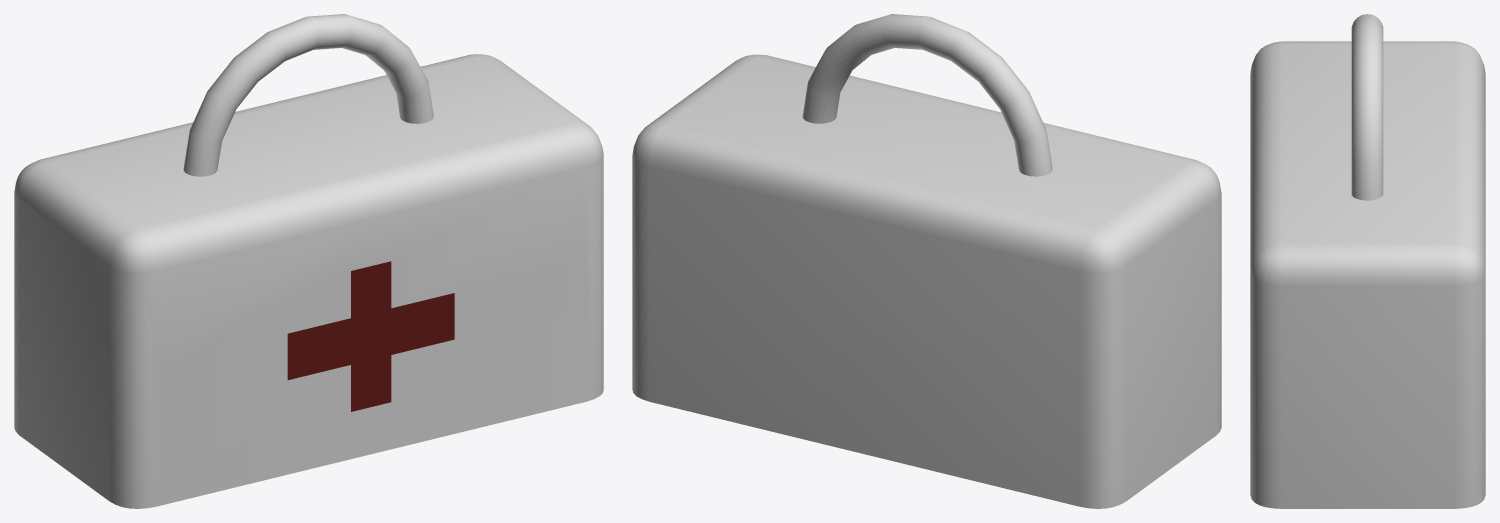
File: Botiquin.fbx
3 renders of one model, left to right at view 1: azimuth 30°, elevation 25°; view 2: azimuth 150°, elevation 25°; view 3: azimuth 270°, elevation 25°, orthographic. The views are drawn at different scales.
Visible parts, largest first — view 1: Box002; view 2: Box002; view 3: Box002.
Part boxes in pixels (<box>): Box002: <box>14,14,603,508</box>; Box002: <box>632,14,1221,508</box>; Box002: <box>1250,14,1485,508</box>.
Bounding box in the file's own units: 0.331 × 0.253 × 0.1456.
